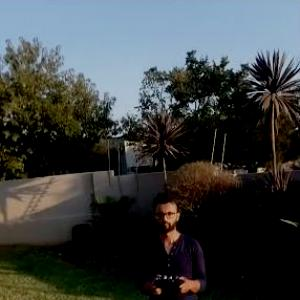follow: (135, 189, 211, 299)
